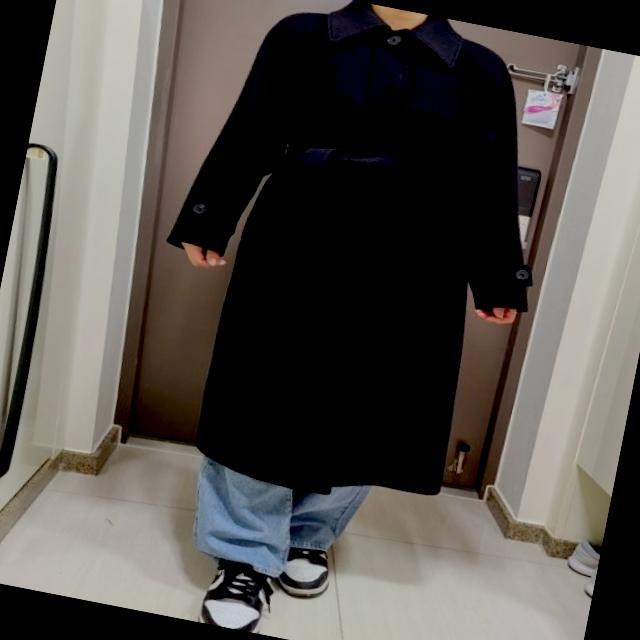coat: (122, 0, 580, 528)
denimpants: (178, 450, 378, 595)
